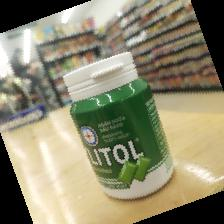Xylitol_green: (62, 51, 175, 200)
